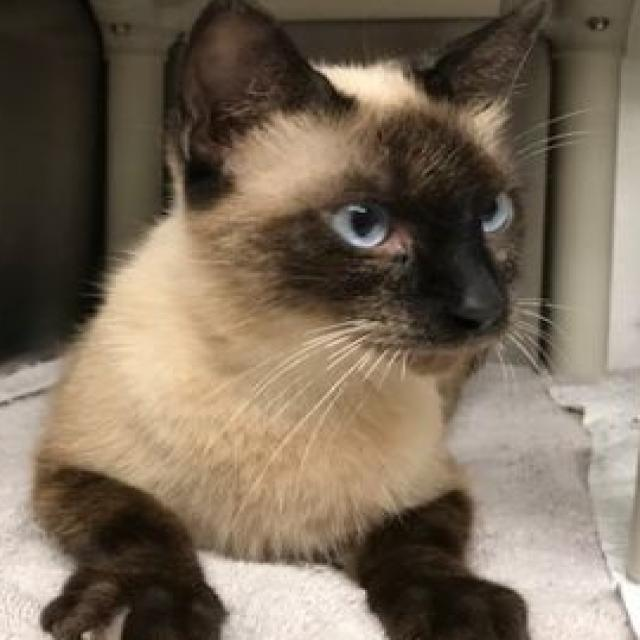Siamese: (26, 0, 564, 640)
